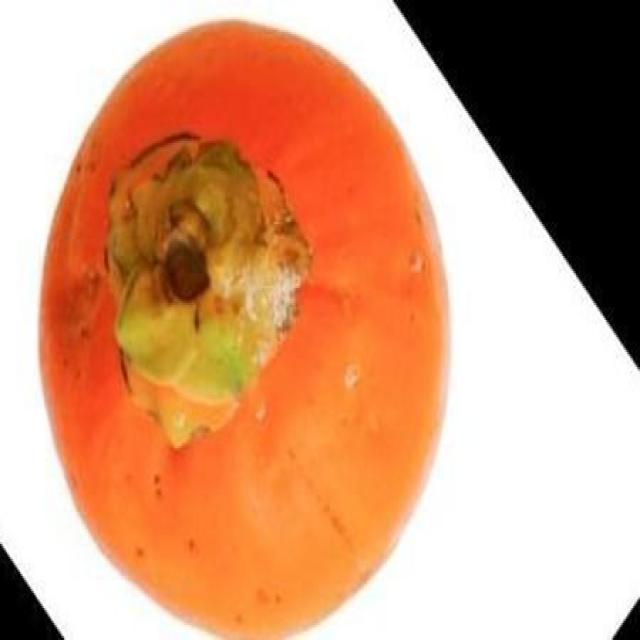good: (31, 19, 458, 638)
